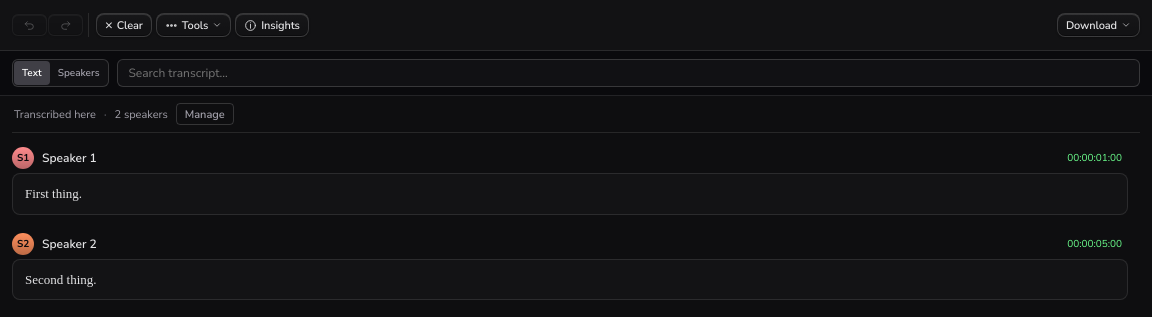
splitting a speaker by selecting their dialogue › acts on the clicked cue when nothing is selected
Right-click the button with class "cp-tx-cue" showing "First thing." at (54, 194), box [25, 186, 82, 201]
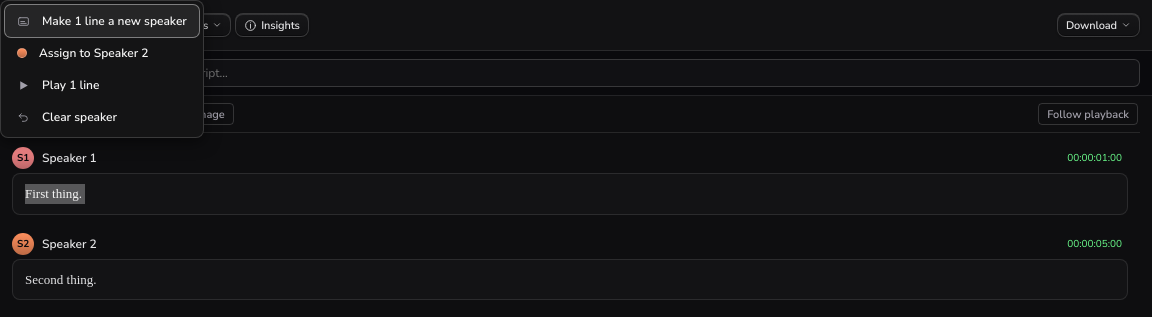
Check: the menu item "Make 1 line a new speaker" is shown, box [5, 5, 199, 37]
